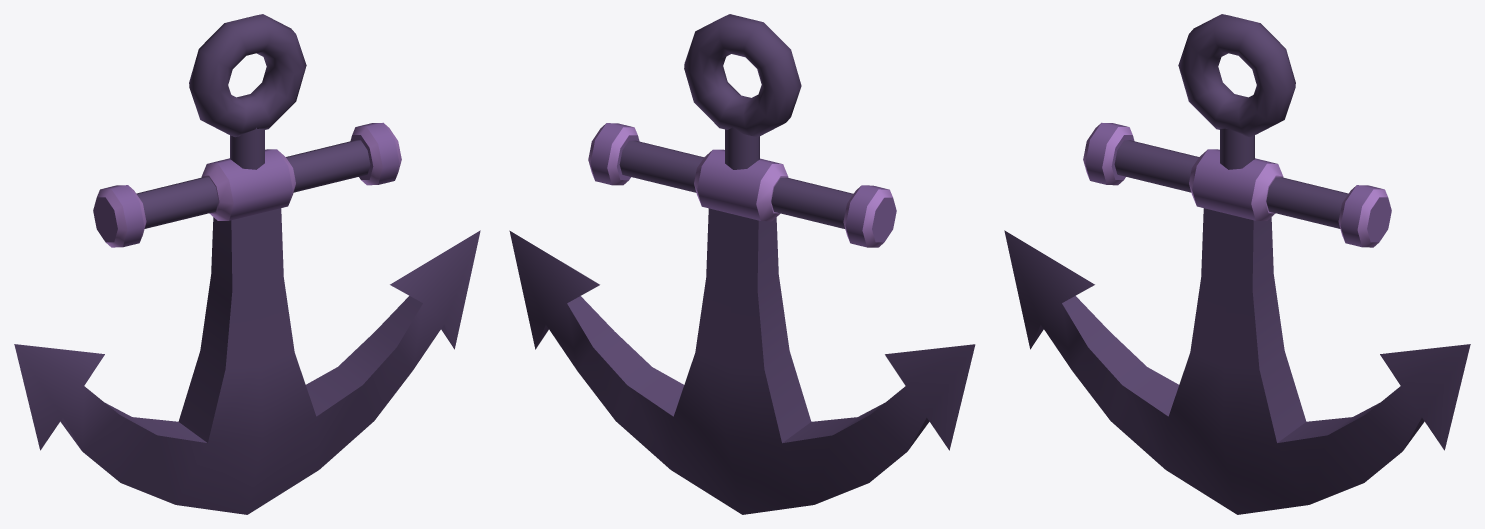
The model's file is Arm_Sailor_mo neo.fbx.
The picture shows the model from 3 angles, left to right: view 1: azimuth 30°, elevation 25°; view 2: azimuth 150°, elevation 25°; view 3: azimuth 330°, elevation 25°; orthographic projection.
Parts seen in each view (by area): view 1: Arm_mo_neo; view 2: Arm_mo_neo; view 3: Arm_mo_neo.
Part boxes in pixels (x1,y1,x2,y2): Arm_mo_neo: (14,14,480,514); Arm_mo_neo: (509,14,975,514); Arm_mo_neo: (1004,14,1470,514).
Size of the model in its own units: 124 by 126 by 14.8.
